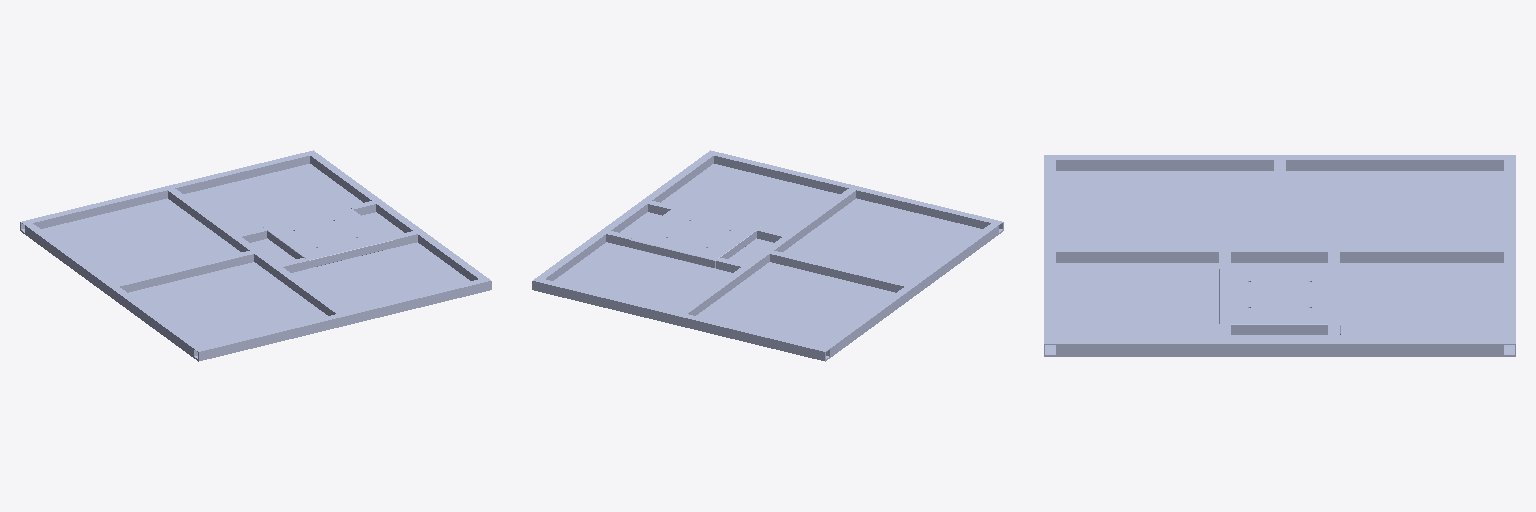
robot.urdf — robot_base:
<?xml version="1.0" encoding="utf-8"?>
<!-- This URDF was automatically created by SolidWorks to URDF Exporter! Originally created by [author] ([email redacted]) 
     Commit Version: 1.6.0-4-g7f85cfe  Build Version: 1.6.7995.38578
     For more information, please see http://wiki.ros.org/sw_urdf_exporter -->
<robot
  name="robot_base">
  <link
    name="robot_base_link">
    <inertial>
      <origin
        xyz="0.12709 -8.0093E-06 0.014873"
        rpy="0 0 0" />
      <mass
        value="52.739" />
      <inertia
        ixx="12.38"
        ixy="-1.5614E-15"
        ixz="-1.4311E-16"
        iyy="11.125"
        iyz="2.3447E-16"
        izz="23.495" />
    </inertial>
    <visual>
      <origin
        xyz="0 0 0"
        rpy="0 0 0" />
      <geometry>
        <mesh
          filename="package://robot_base/meshes/base_link.STL" />
      </geometry>
      <material
        name="">
        <color
          rgba="0.79216 0.81961 0.93333 1" />
      </material>
    </visual>
    <collision>
      <origin
        xyz="0 0 0"
        rpy="0 0 0" />
      <geometry>
        <mesh
          filename="package://robot_base/meshes/base_link.STL" />
      </geometry>
    </collision>
  </link>
</robot>

--- Facts derived from the render (not from the file) ---
Views: 3 orthographic renders of the robot side by side, from view 1: azimuth 30°, elevation 25°; view 2: azimuth 150°, elevation 25°; view 3: azimuth 270°, elevation 25°.
Robot: robot_base — 1 links, 0 joints (none); root link robot_base_link; default pose: every joint at zero.
Links seen in each view (by area): view 1: robot_base_link; view 2: robot_base_link; view 3: robot_base_link.
Boxes of the visible links, x1,y1,x2,y2 form: robot_base_link: [20, 150, 491, 361]; robot_base_link: [532, 150, 1003, 361]; robot_base_link: [1044, 155, 1515, 356].
Size in the robot's own frame: 1.9 by 2 by 0.059 metres.
1 mesh visuals loaded from 1 distinct referenced files (1 binary STL).